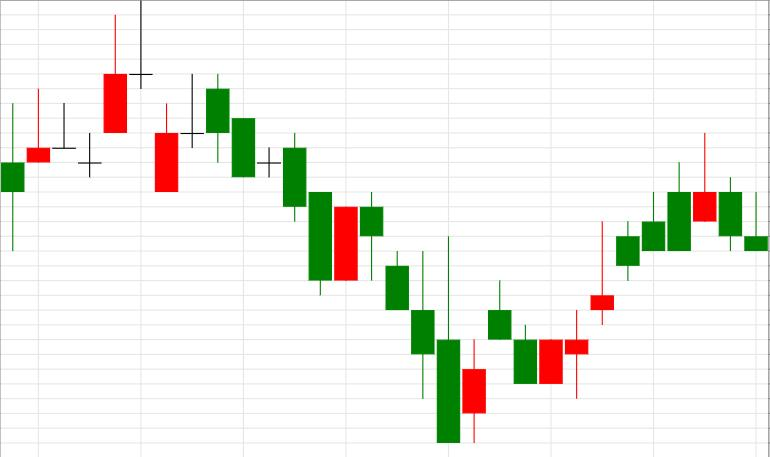shooting_star_fall: (539, 134, 716, 397)
